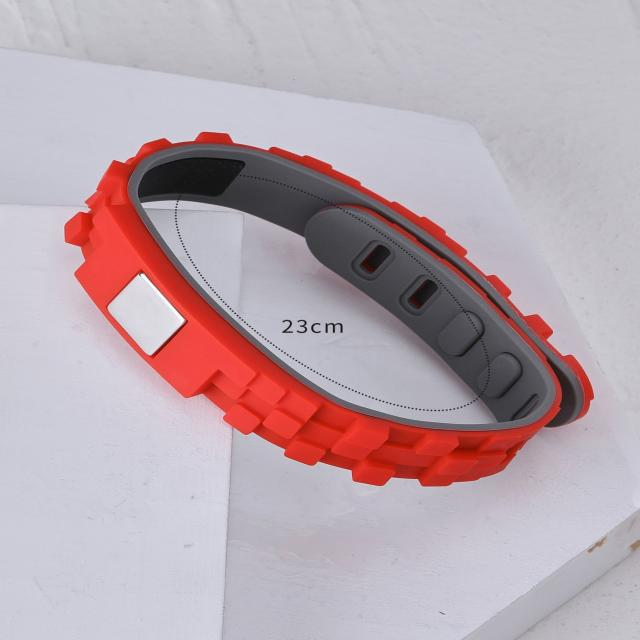bracelet: (41, 102, 640, 530)
